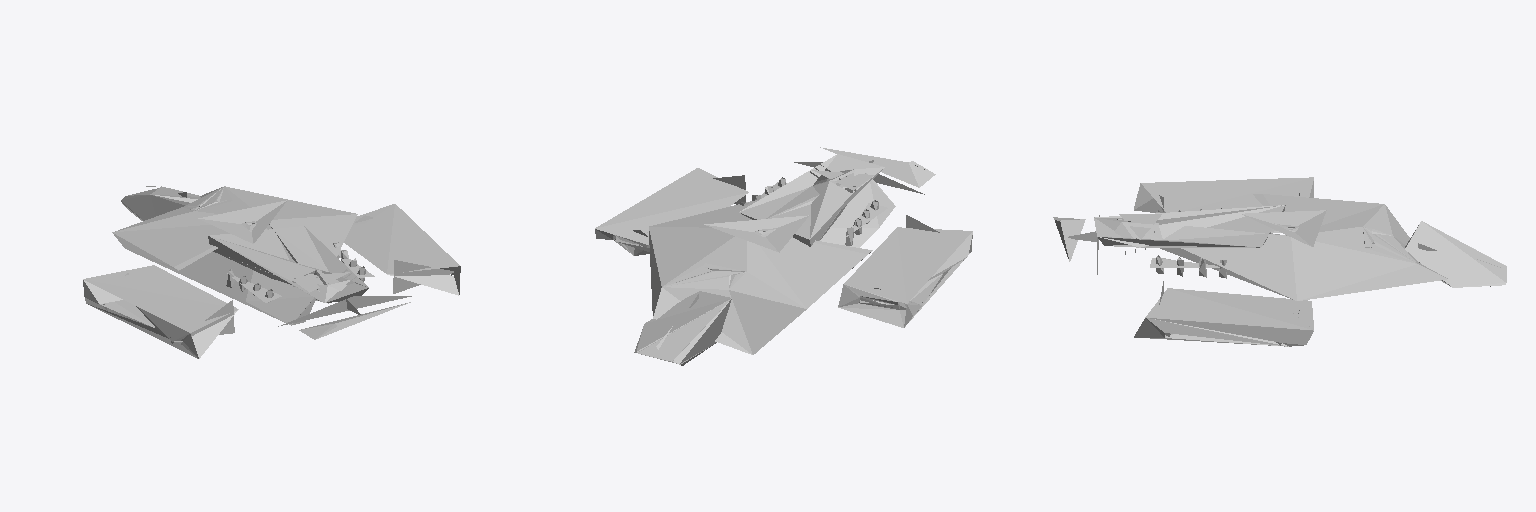
File: defiant-0.0078.obj
The picture shows the model from 3 angles: view 1: azimuth 30°, elevation 25°; view 2: azimuth 150°, elevation 25°; view 3: azimuth 270°, elevation 25°; orthographic projection.
Visible parts, largest first — view 1: Antrieb1; view 2: Antrieb1; view 3: Antrieb1.
Boxes of the visible parts, x1=… form: Antrieb1: x1=83, y1=186, x2=460, y2=358; Antrieb1: x1=595, y1=147, x2=972, y2=365; Antrieb1: x1=1053, y1=177, x2=1506, y2=346.
Size of the model in its own units: 4.14 by 0.798 by 5.12.